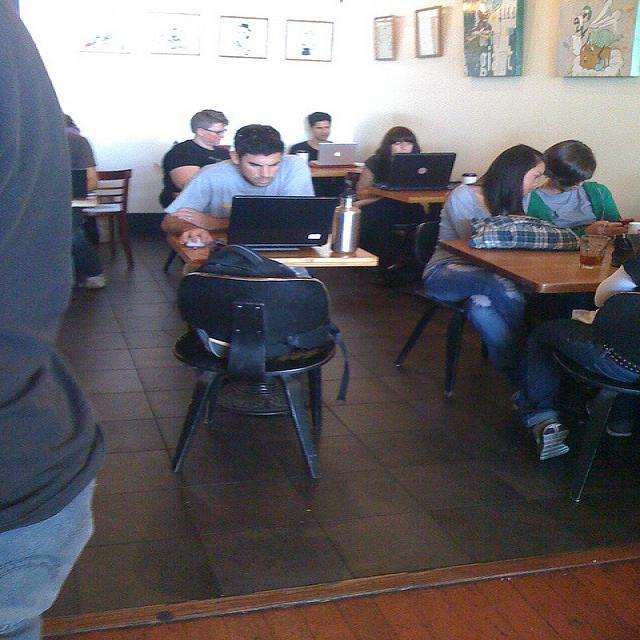chair: (171, 271, 335, 481), (390, 222, 467, 400), (550, 352, 639, 504), (82, 170, 135, 271)
dining table: (436, 219, 640, 294), (249, 235, 378, 268), (364, 187, 450, 204), (312, 166, 362, 180), (72, 196, 99, 214)
